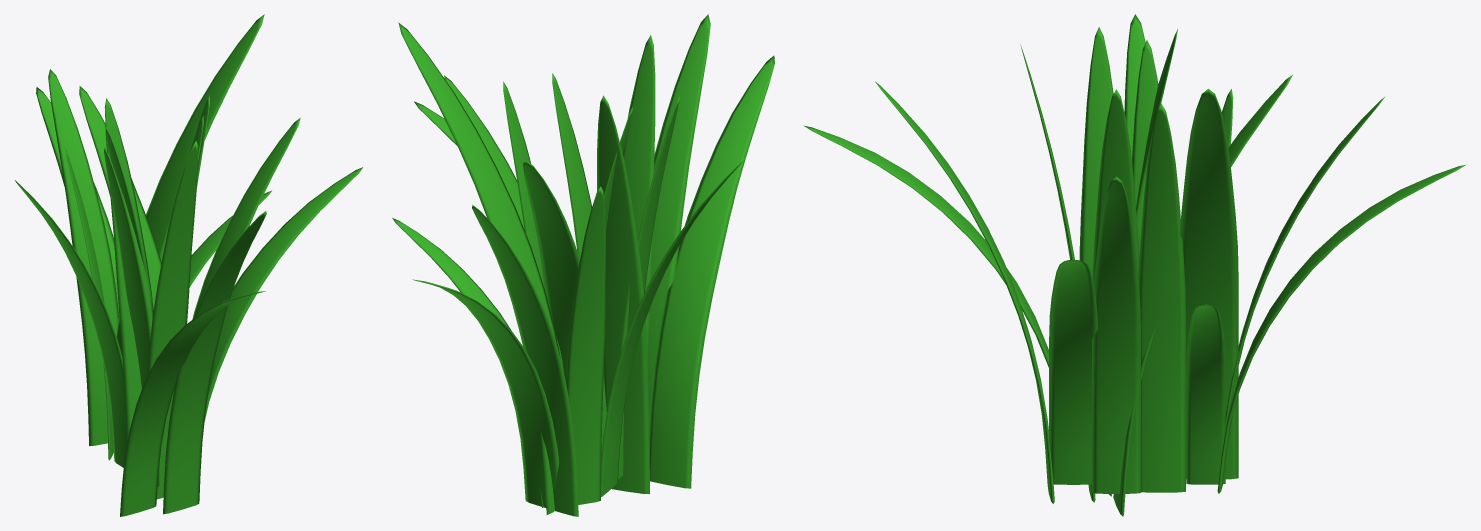
The model's file is Touffe_Herbe.FBX.
3 renders of one model, left to right at view 1: azimuth 30°, elevation 25°; view 2: azimuth 150°, elevation 25°; view 3: azimuth 270°, elevation 25°, orthographic. The views are drawn at different scales.
Parts seen in each view (by area): view 1: Box019; view 2: Box019; view 3: Box019.
Part boxes in pixels (x1=…): Box019: x1=15, y1=14, x2=362, y2=516; Box019: x1=392, y1=14, x2=774, y2=516; Box019: x1=804, y1=14, x2=1465, y2=516.
Size of the model in its own units: 19.21 by 23.3 by 28.5.
